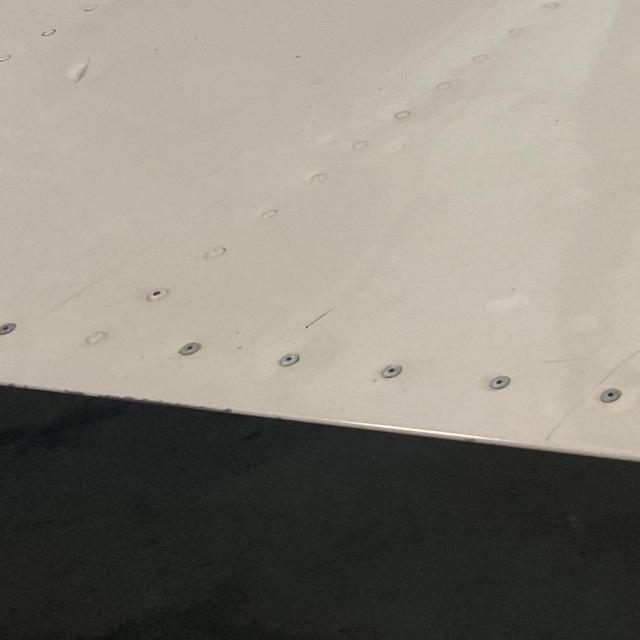Dent: (71, 59, 93, 82)
